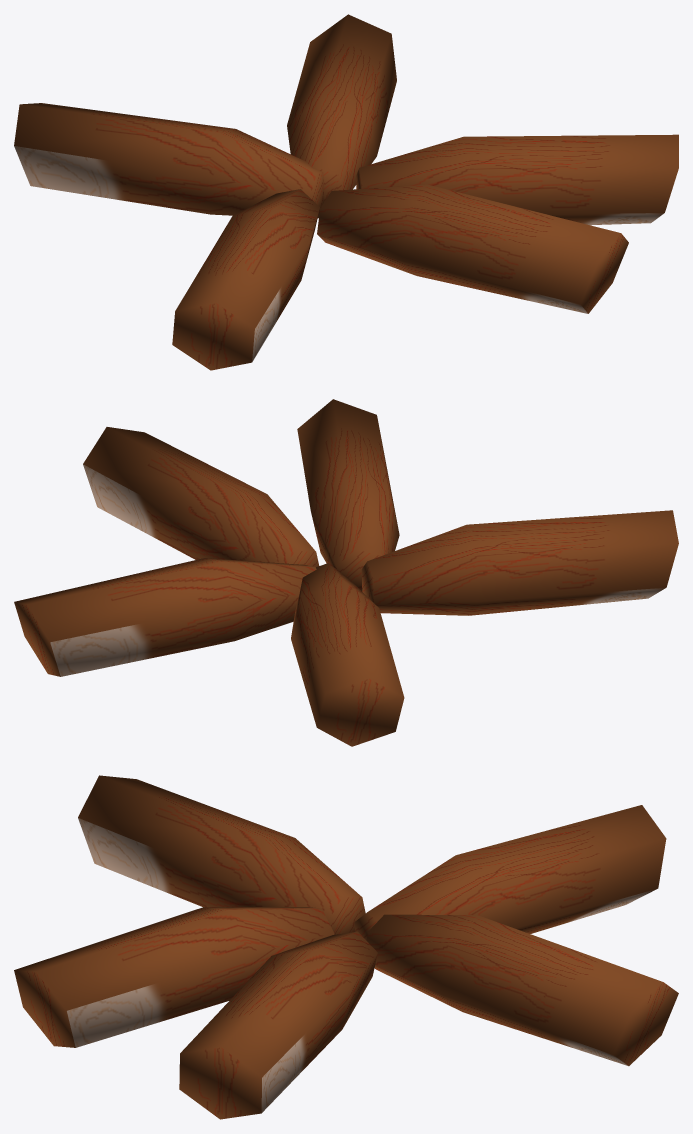
Rendered from iron_cauldron_firewood.obj.
The picture shows the model from 3 angles, top to bottom: view 1: azimuth 30°, elevation 25°; view 2: azimuth 150°, elevation 25°; view 3: azimuth 270°, elevation 25°; orthographic projection. The views are drawn at different scales.
Parts seen in each view (by area): view 1: Firewood; view 2: Firewood; view 3: Firewood.
Part boxes in pixels (x1=…): Firewood: x1=14, y1=14, x2=678, y2=370; Firewood: x1=14, y1=399, x2=678, y2=746; Firewood: x1=14, y1=775, x2=678, y2=1119.
Size of the model in its own units: 1.21 by 0.1859 by 1.18.
